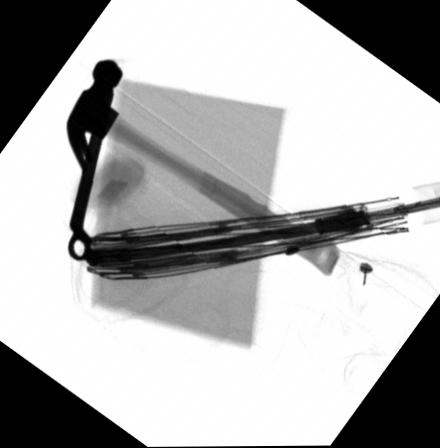Hammer: (66, 59, 341, 277)
Wrench: (66, 60, 117, 262)
